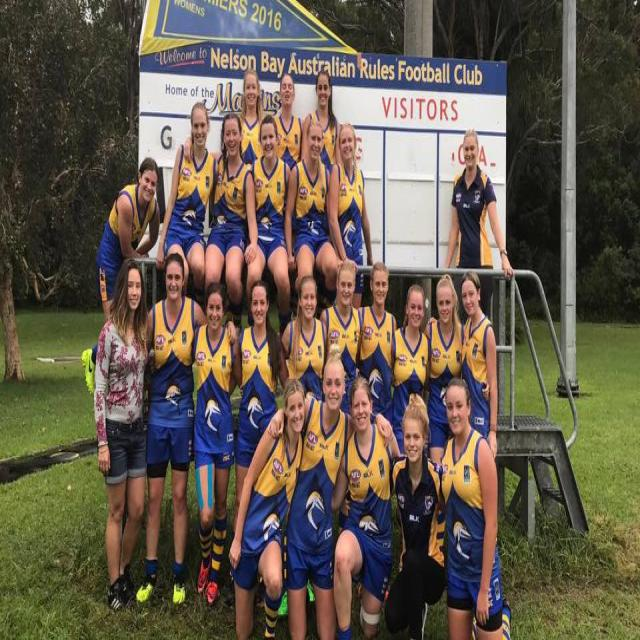body: (134, 250, 239, 607), (266, 351, 394, 639), (147, 280, 243, 607), (91, 255, 160, 616), (329, 373, 407, 640), (227, 376, 305, 638), (438, 373, 514, 640), (80, 156, 160, 399), (182, 111, 258, 331), (228, 278, 290, 544), (382, 391, 448, 640), (424, 269, 498, 462), (155, 102, 221, 310), (443, 125, 515, 281), (244, 113, 293, 339), (284, 118, 339, 314), (327, 120, 375, 313), (421, 272, 467, 466), (389, 282, 432, 461), (355, 261, 398, 436), (318, 258, 362, 416), (280, 274, 329, 403), (300, 68, 343, 176), (271, 70, 304, 172), (239, 65, 263, 164)
